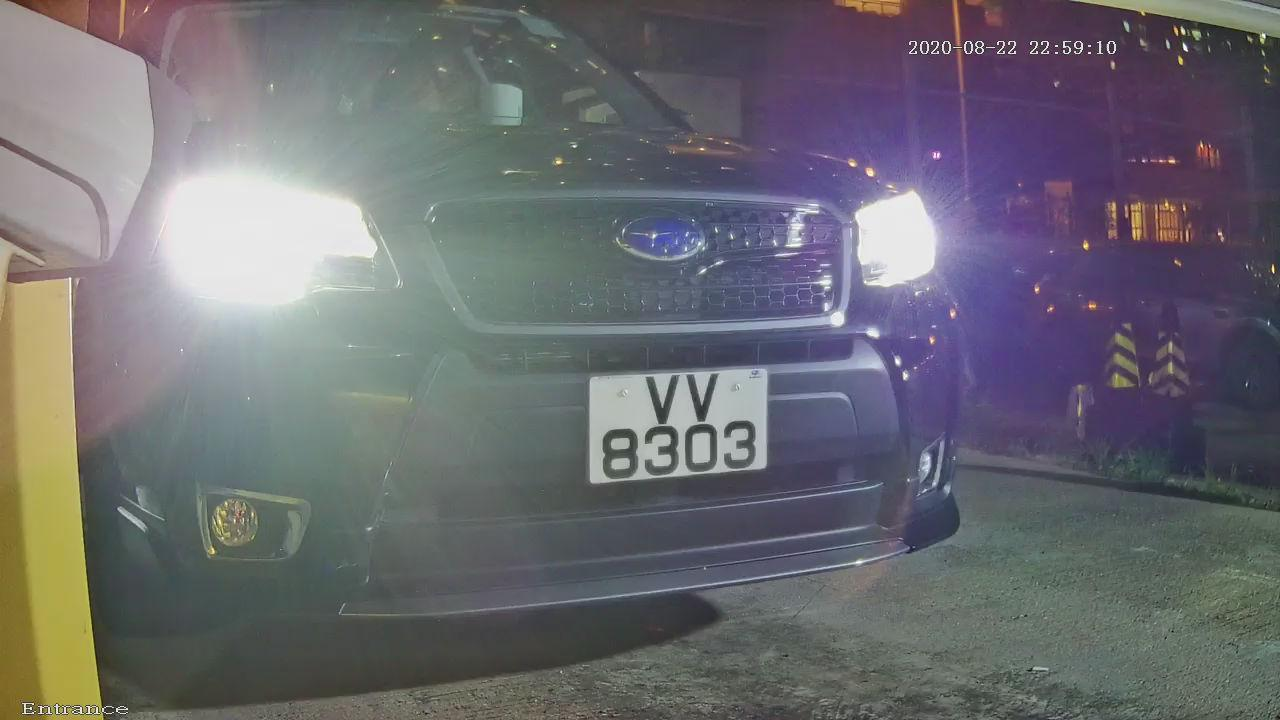Car: (29, 1, 1109, 679)
License Plate: (566, 348, 783, 502)
